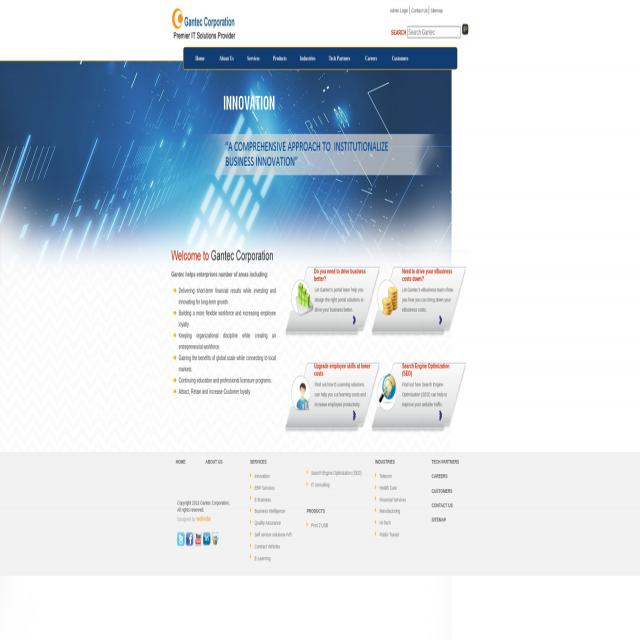button: (372, 266, 466, 335), (285, 266, 380, 334), (284, 364, 380, 430), (372, 364, 466, 429), (172, 0, 236, 46), (171, 250, 273, 262), (321, 47, 358, 69), (384, 47, 416, 69), (358, 47, 384, 69), (294, 46, 319, 68), (188, 47, 212, 69), (267, 48, 292, 69), (240, 48, 264, 68), (214, 48, 238, 68), (177, 532, 185, 546), (186, 532, 194, 546), (194, 532, 202, 546), (203, 532, 211, 546), (212, 532, 219, 546), (462, 23, 468, 35)
field: (407, 26, 461, 38)
